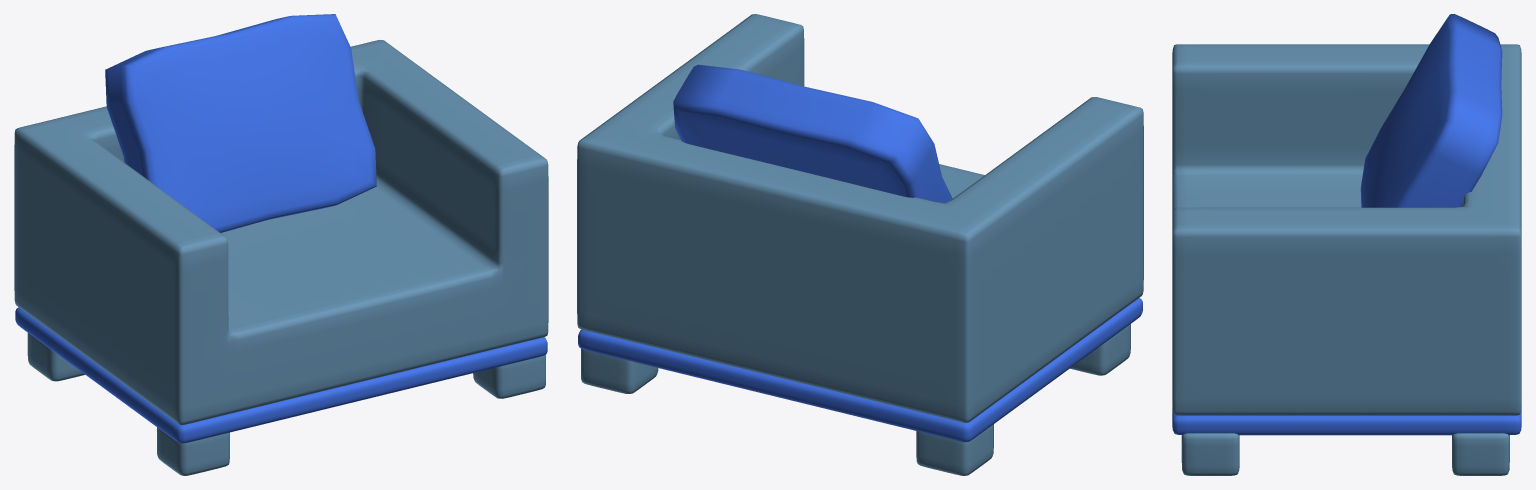
File: sofa-one.fbx
3 renders of one model, left to right at view 1: azimuth 30°, elevation 25°; view 2: azimuth 150°, elevation 25°; view 3: azimuth 270°, elevation 25°, orthographic. The views are drawn at different scales.
Parts seen in each view (by area): view 1: sofa-one; view 2: sofa-one; view 3: sofa-one.
Boxes of the visible parts, left/top/right/bottom form: sofa-one: left=14, top=14, right=548, bottom=475; sofa-one: left=577, top=14, right=1143, bottom=475; sofa-one: left=1172, top=14, right=1521, bottom=475.
Size of the model in its own units: 452 by 357 by 351.
